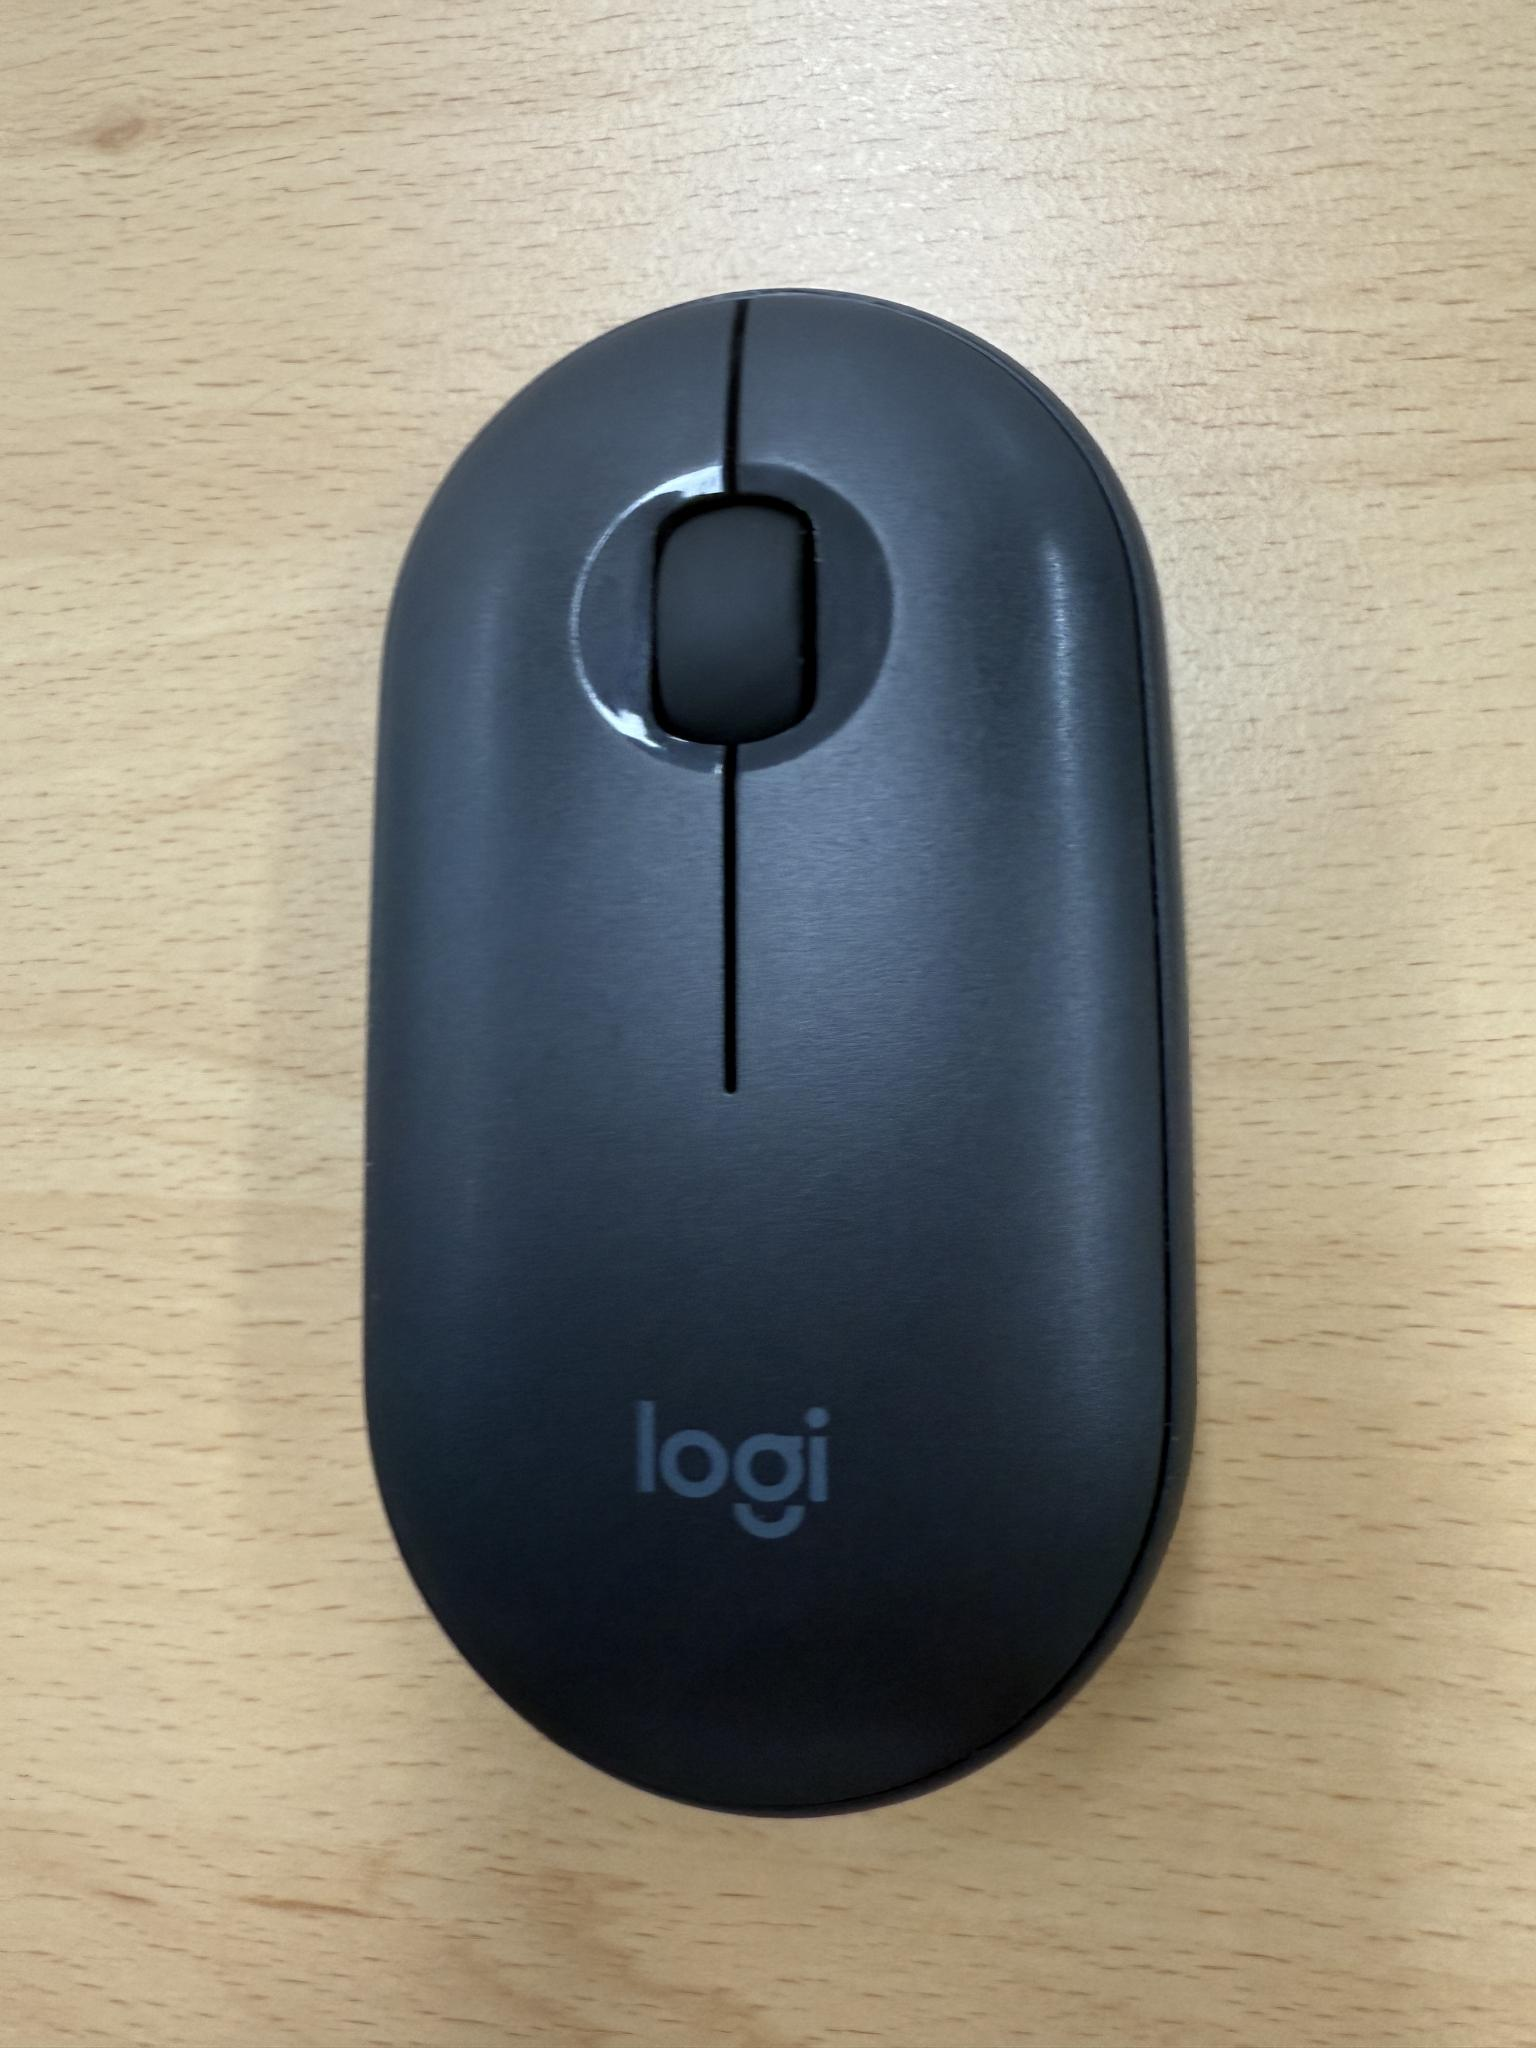front: (353, 277, 1199, 1825)
